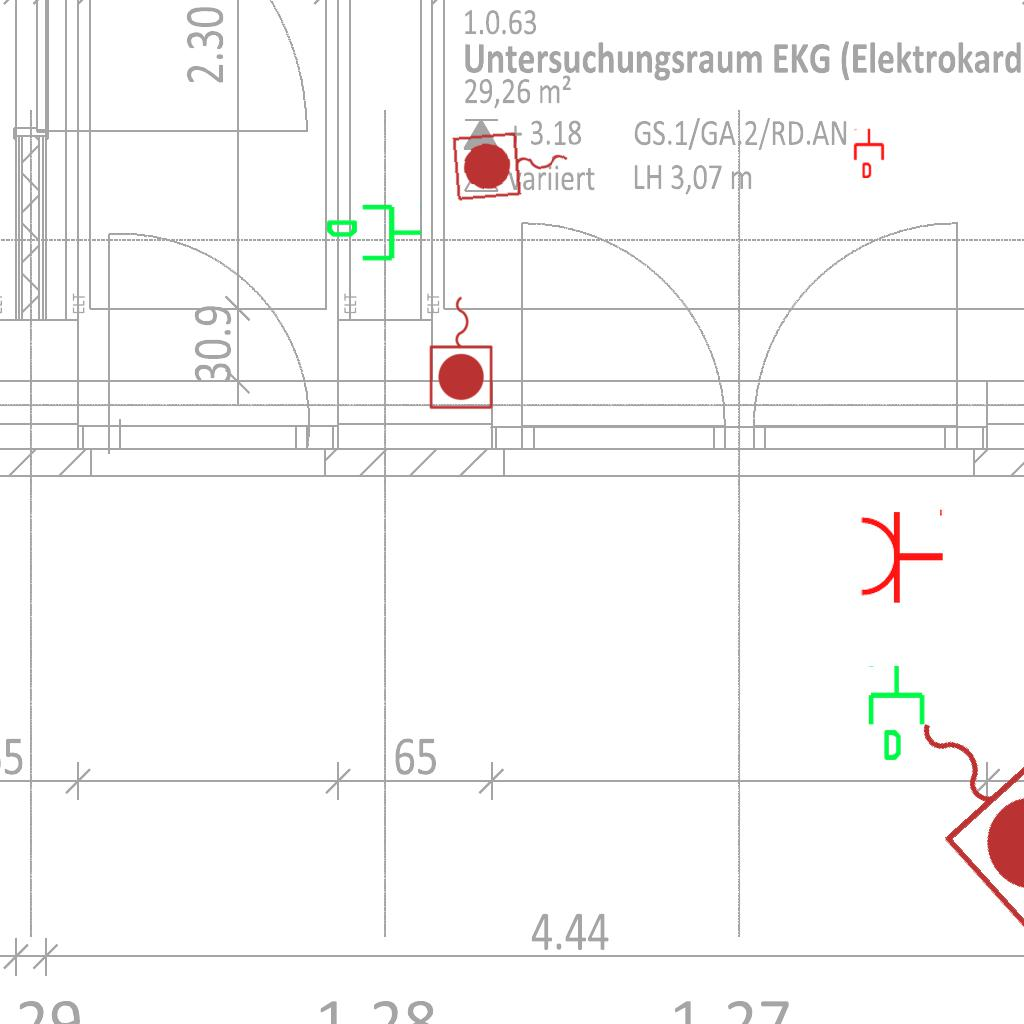Datenanschluss_einfach: (864, 663, 933, 763), (324, 200, 424, 269), (852, 128, 886, 178)
Schukosteckdose_einfach: (858, 505, 945, 605)
Zugtaster: (865, 666, 1024, 944), (448, 123, 576, 207), (426, 291, 498, 413)
